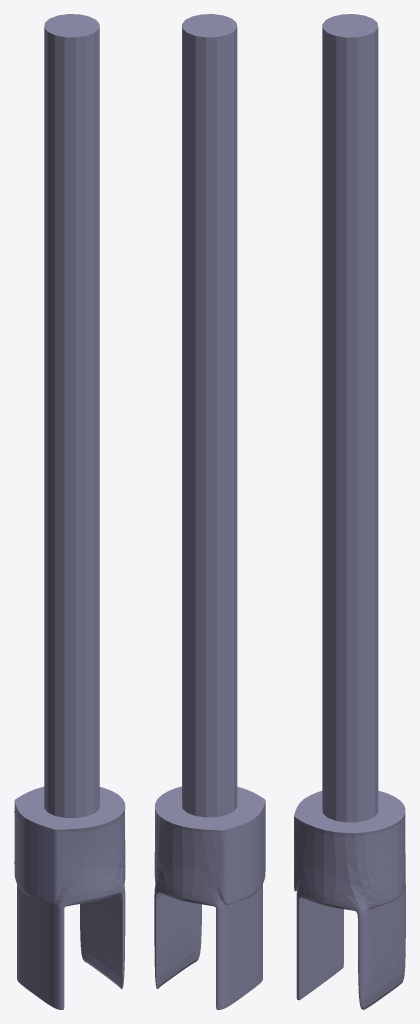
The model's file is rod_R_LowPoly.obj.
3 renders of one model, left to right at view 1: azimuth 30°, elevation 25°; view 2: azimuth 150°, elevation 25°; view 3: azimuth 330°, elevation 25°, orthographic.
Visible parts, largest first — view 1: rod_R_LowPoly\Facets; view 2: rod_R_LowPoly\Facets; view 3: rod_R_LowPoly\Facets.
Boxes of the visible parts, <box> form: rod_R_LowPoly\Facets: <box>14,14,125,1009</box>; rod_R_LowPoly\Facets: <box>154,14,265,1009</box>; rod_R_LowPoly\Facets: <box>294,14,405,1009</box>.
Size of the model in its own units: 0.1193 by 1.17 by 0.1196.
